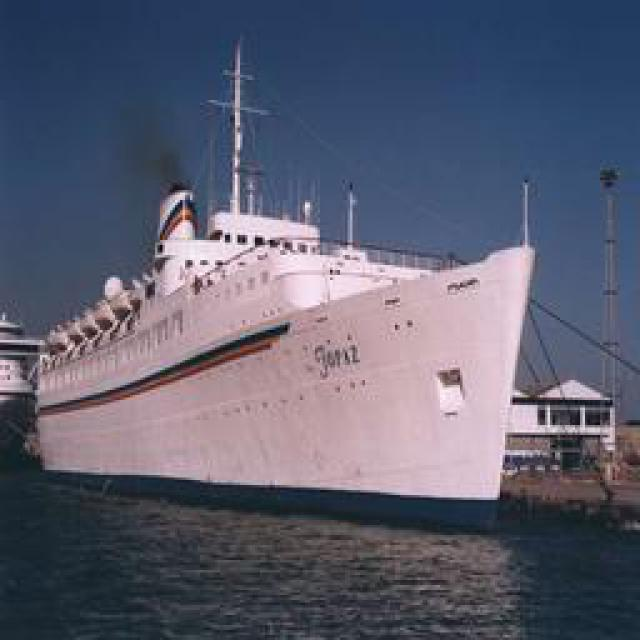Ship: (31, 105, 546, 513)
